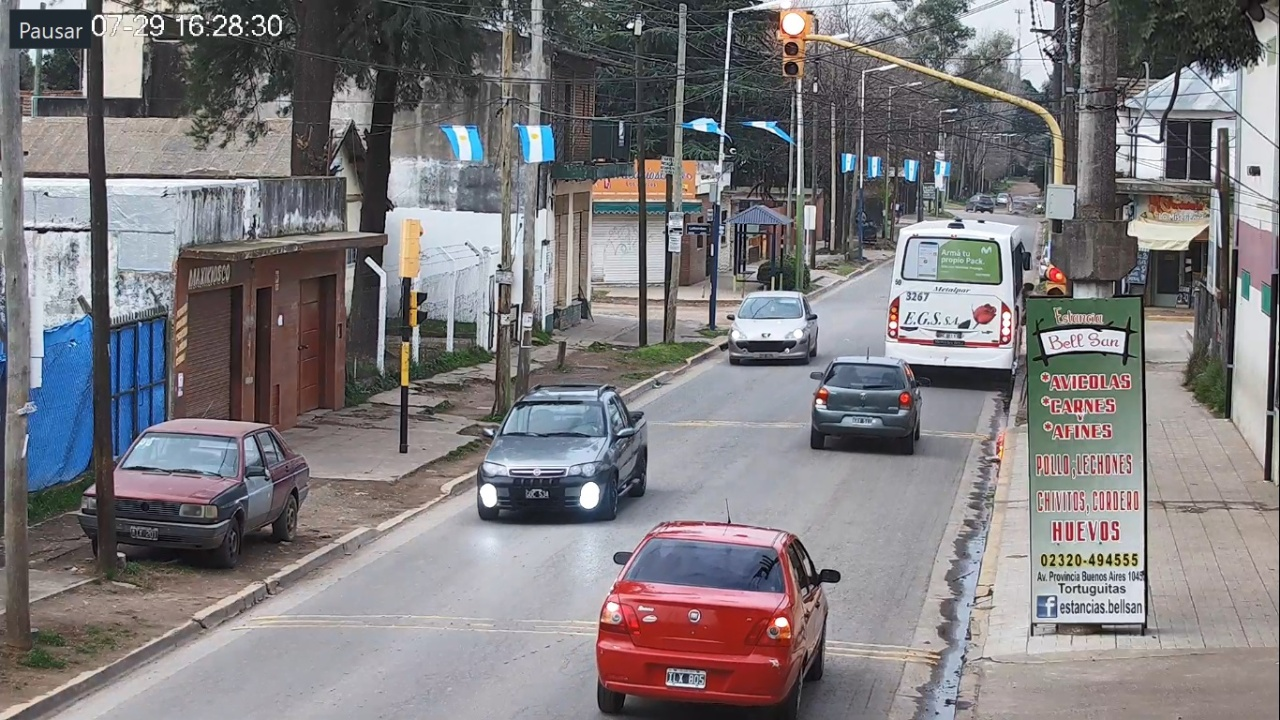bus: (885, 220, 1032, 378)
car: (597, 521, 841, 720), (809, 356, 931, 455)
front car: (478, 384, 648, 519), (727, 292, 819, 364)
traffic light: (781, 11, 804, 76)
